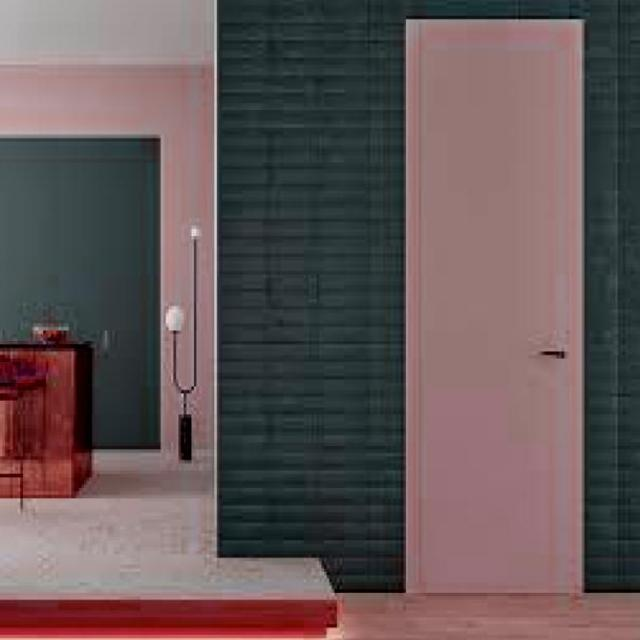door: (404, 16, 585, 595)
